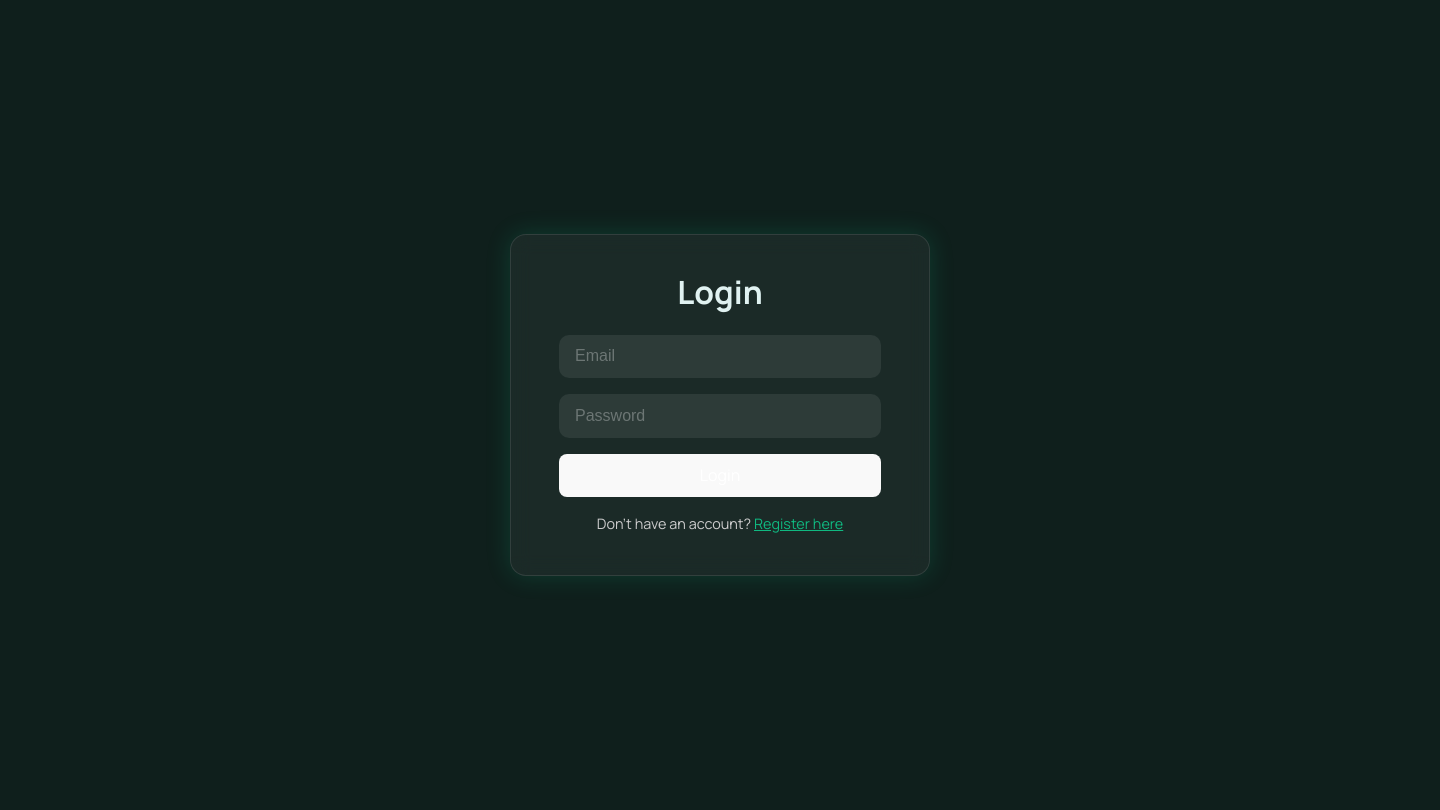
Login component › shows error on login failure
Type "fail@example.com" into the field with placeholder "Email" at (720, 356), box [559, 335, 881, 378]
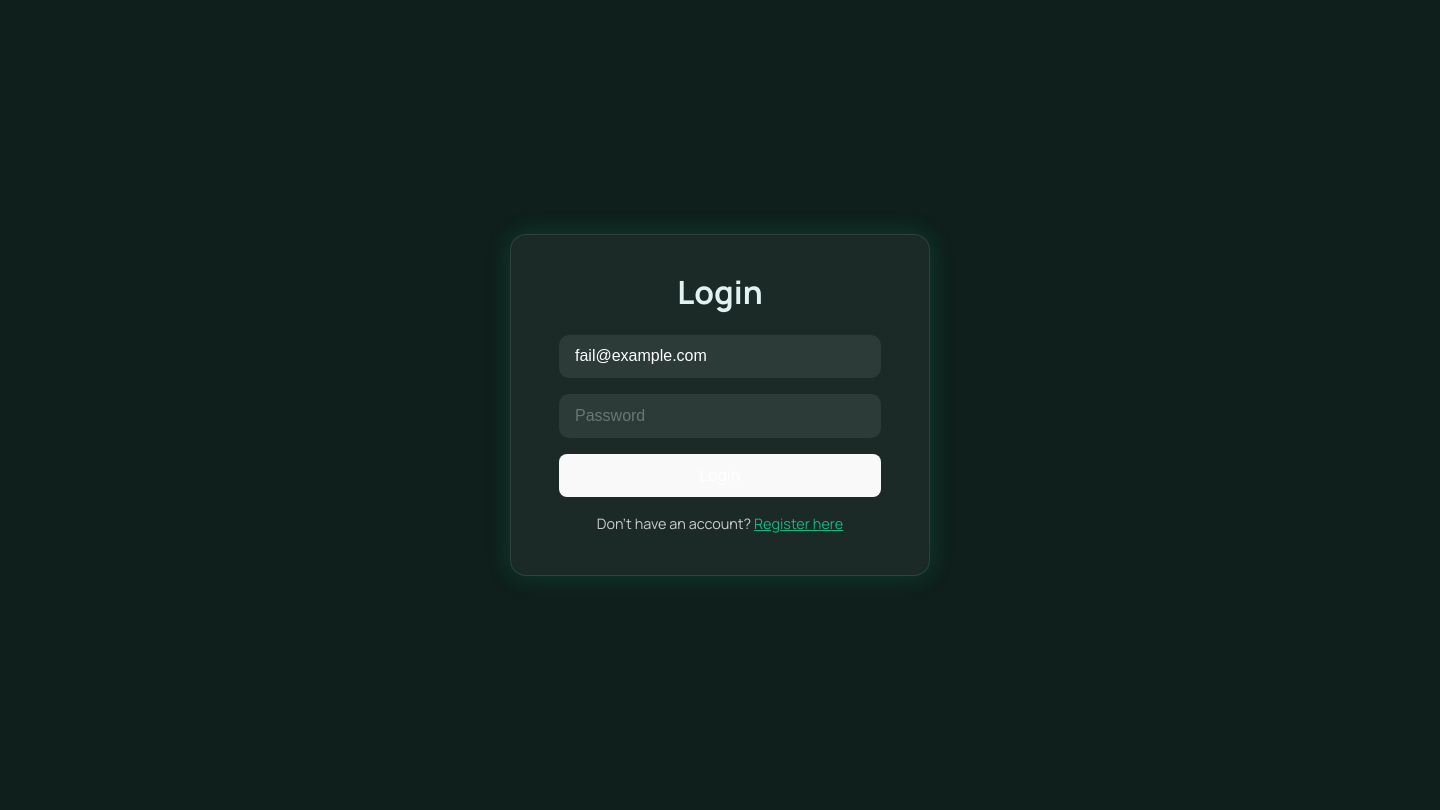
Type "wrongpass" into the password field with placeholder "Password" at (720, 416), box [559, 394, 881, 438]
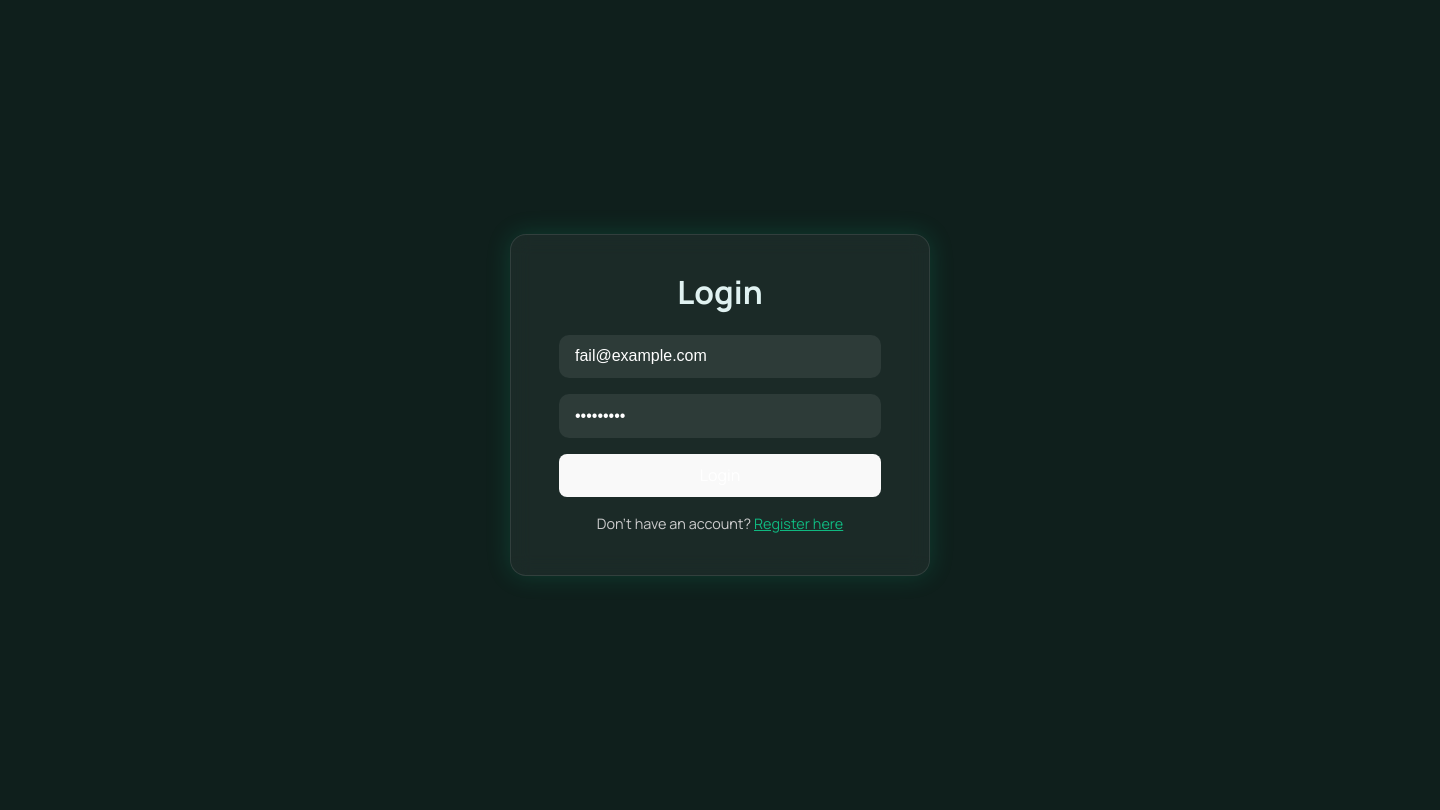
Click the button "Login" at (720, 475), box [559, 454, 881, 497]
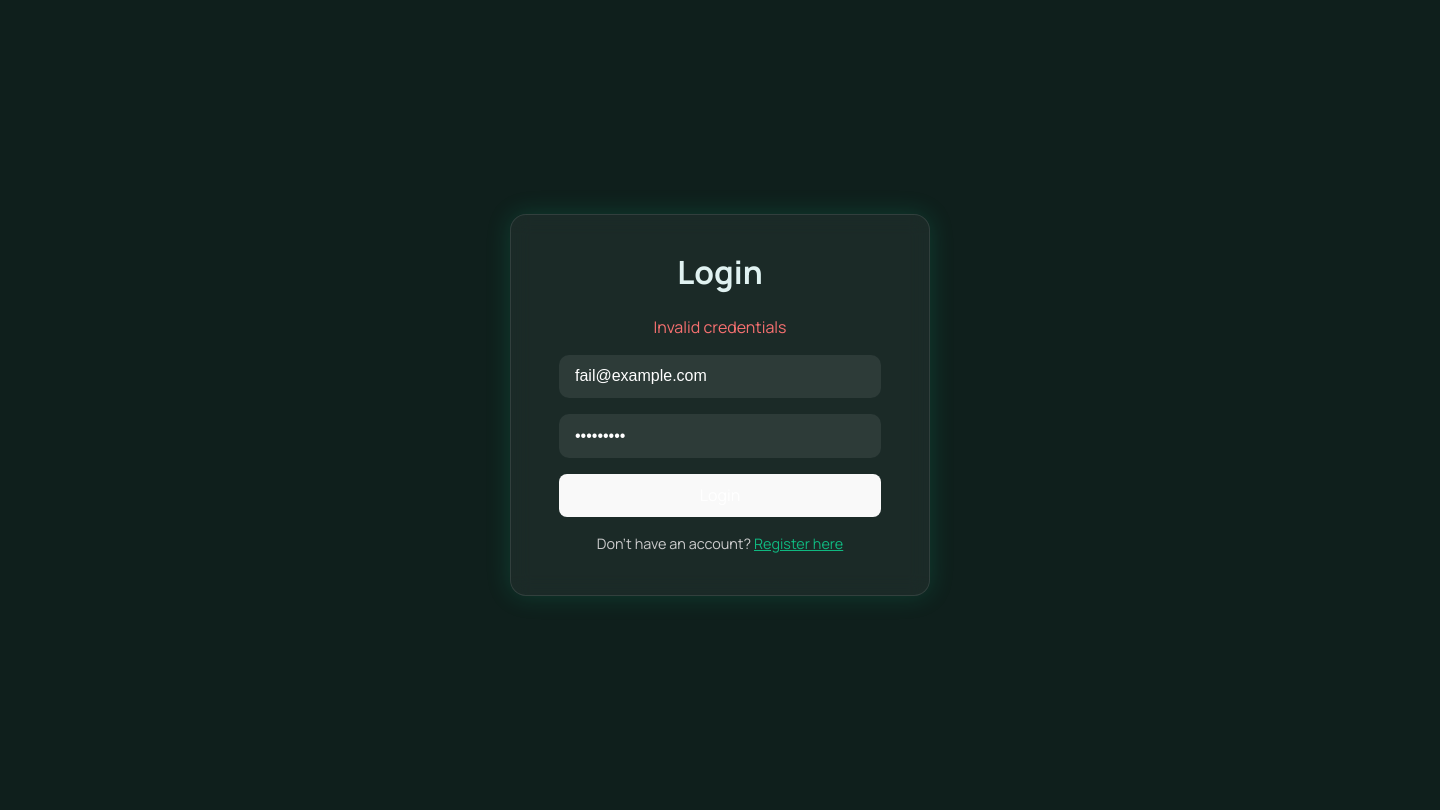
Now the text "Invalid credentials" is shown, box [654, 316, 786, 338]
